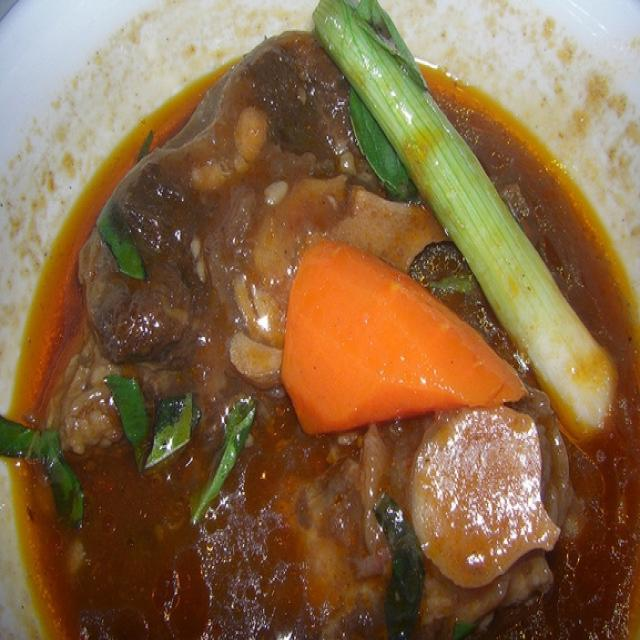汤锅炖物: (16, 28, 614, 621)
